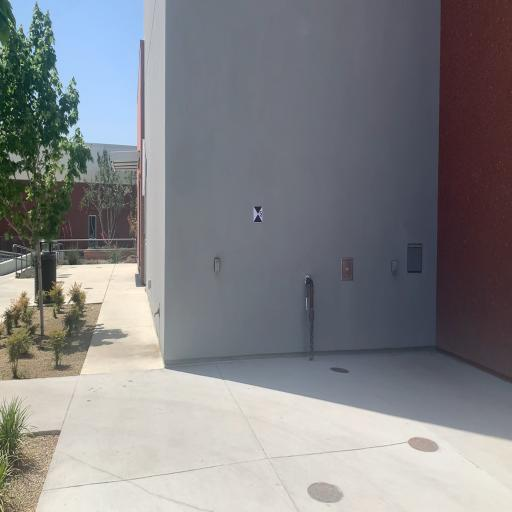target5: (253, 205, 263, 223)
